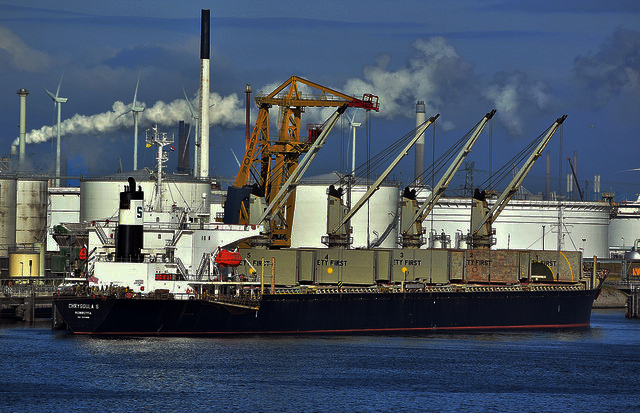bulk carrier: (64, 162, 596, 330)
